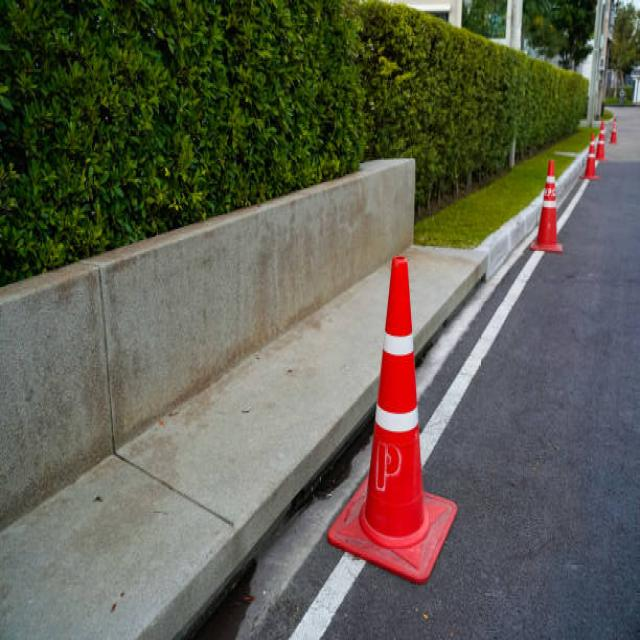Traffic Cone: (309, 218, 474, 601)
